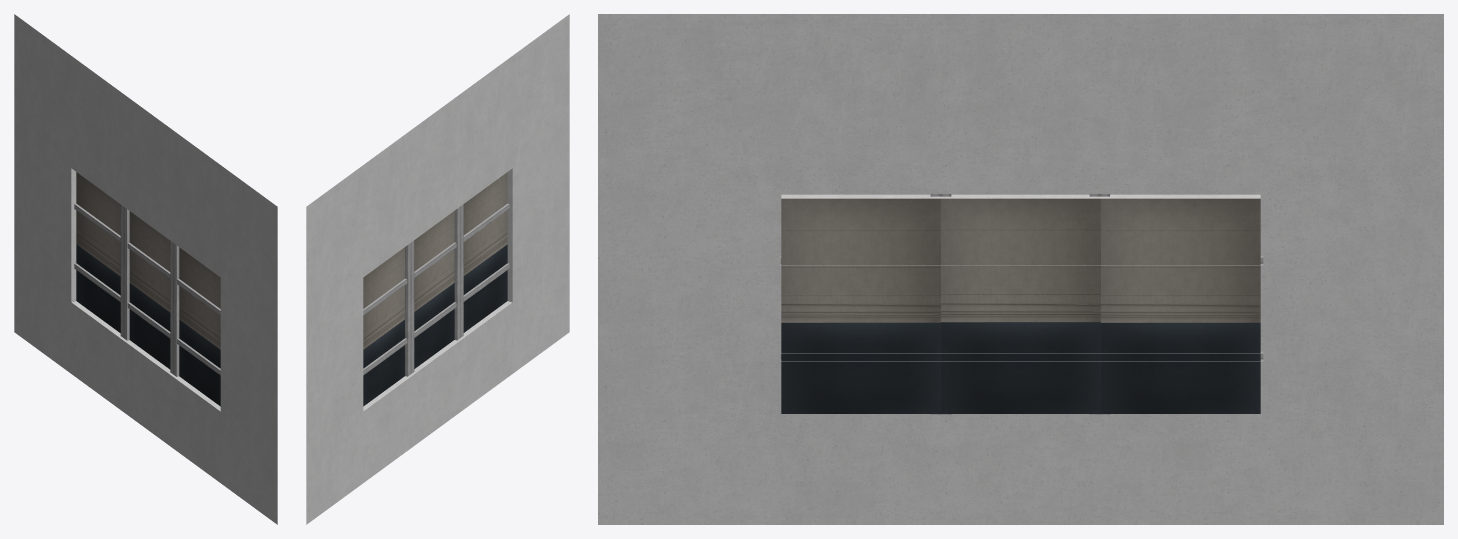
File: MB_Wall_Window_A_09.fbx
3 renders of one model, left to right at view 1: azimuth 30°, elevation 25°; view 2: azimuth 150°, elevation 25°; view 3: azimuth 270°, elevation 25°, orthographic. The views are drawn at different scales.
Parts seen in each view (by area): view 1: MB_Wall_Window_A_09; view 2: MB_Wall_Window_A_09; view 3: MB_Wall_Window_A_09.
Boxes of the visible parts, x1,y1,x2,y2 form: MB_Wall_Window_A_09: [14, 14, 277, 524]; MB_Wall_Window_A_09: [306, 14, 569, 524]; MB_Wall_Window_A_09: [598, 14, 1443, 524].
Bounding box in the file's own units: 7.24 × 400 × 600.
